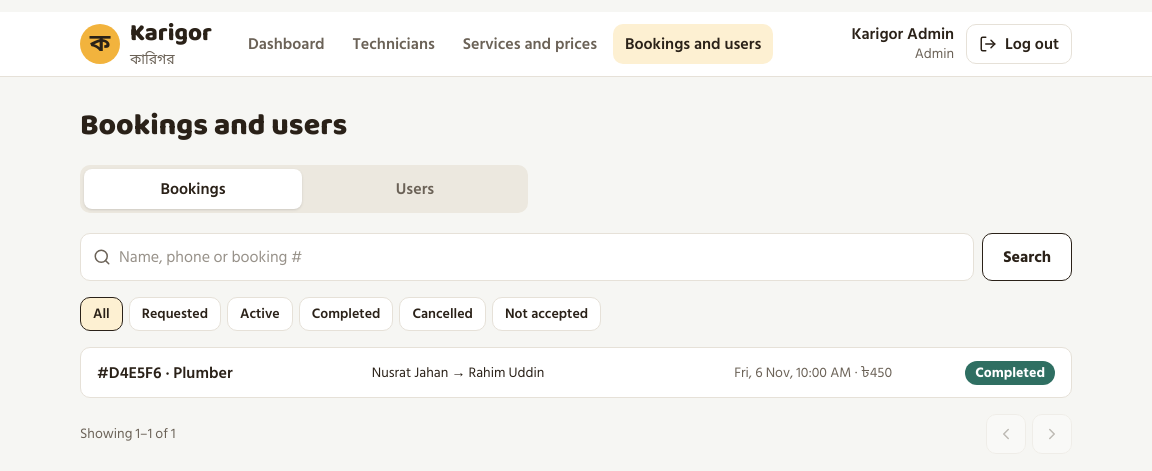
it: Admin bookings and users › lists bookings and filters them by status
This screenshot has width=1152, height=471.
Check: the text "#D4E5F6 · Plumber" is shown, box [97,360,232,386]
Check: the text "Nusrat Jahan → Rahim Uddin" is shown, box [372,360,544,384]
Click the button "Completed". click: (346, 314)
box: [299,297,393,331]
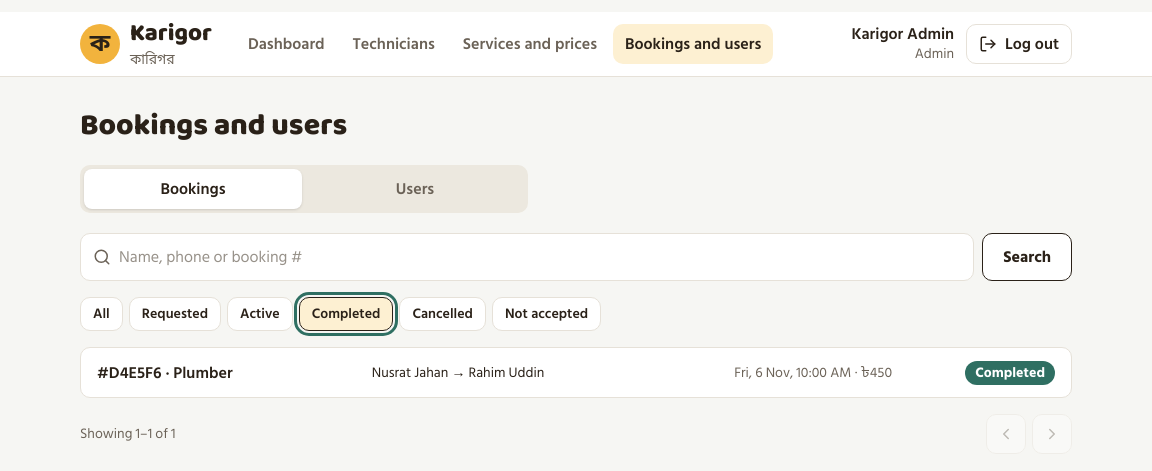
Check: the button "Completed" is pressed, box [299,297,393,331]
